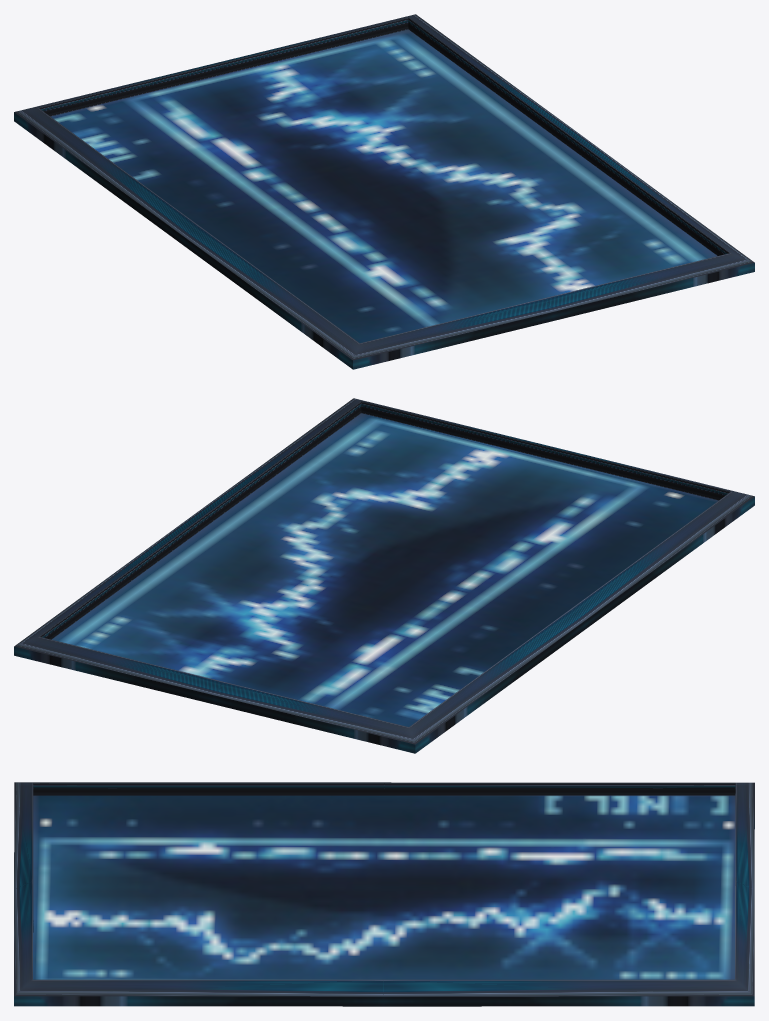
The model's file is pbdiannao01.FBX.
3 renders of one model, top to bottom at view 1: azimuth 30°, elevation 25°; view 2: azimuth 150°, elevation 25°; view 3: azimuth 270°, elevation 25°, orthographic. The views are drawn at different scales.
Parts seen in each view (by area): view 1: pbdiannao01; view 2: pbdiannao01; view 3: pbdiannao01.
Part boxes in pixels (x1,y1,x2,y2): pbdiannao01: (14,14,754,369); pbdiannao01: (14,398,754,753); pbdiannao01: (14,782,754,1006).
Bounding box in the file's own units: 0.1709 × 0.00963 × 0.2501.
